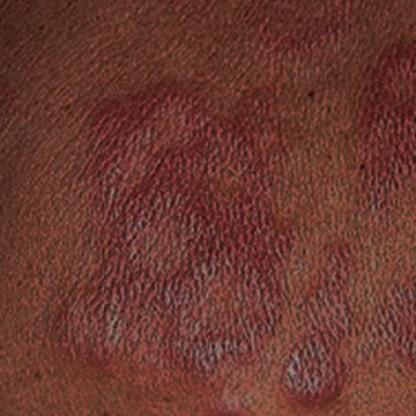Leprosy: (47, 78, 296, 368), (288, 238, 415, 415), (318, 30, 415, 224)
